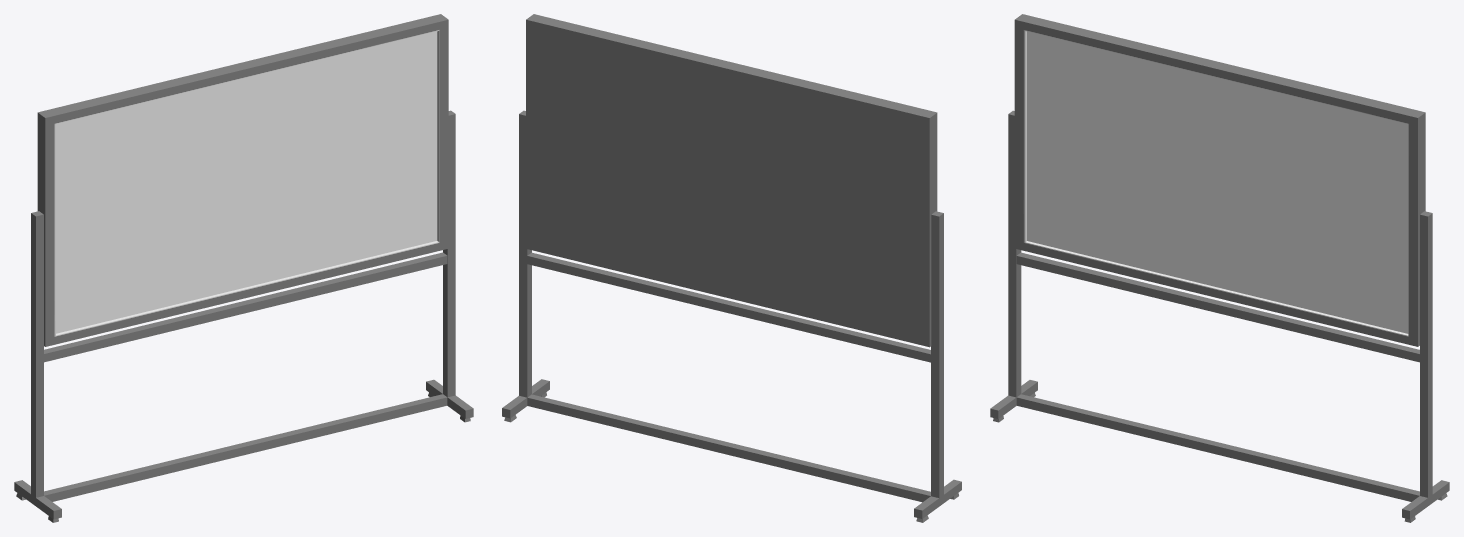
The model's file is whiteboard.fbx.
3 views of the same model, side by side, from view 1: azimuth 30°, elevation 25°; view 2: azimuth 150°, elevation 25°; view 3: azimuth 330°, elevation 25° (orthographic).
Parts seen in each view (by area): view 1: Cube, Cube.004, Cube.003, Cube.001, Cube.002; view 2: Cube, Cube.004, Cube.003, Cube.001, Cube.002; view 3: Cube, Cube.004, Cube.003, Cube.002, Cube.001.
Boxes of the visible parts, <box> form: Cube: <box>37,14,448,346</box>; Cube.004: <box>44,252,447,362</box>; Cube.003: <box>44,394,447,501</box>; Cube.001: <box>14,211,61,522</box>; Cube.002: <box>426,110,473,422</box>; Cube: <box>526,14,937,347</box>; Cube.004: <box>527,252,930,362</box>; Cube.003: <box>527,394,930,502</box>; Cube.001: <box>914,211,961,522</box>; Cube.002: <box>502,110,549,422</box>; Cube: <box>1014,14,1425,346</box>; Cube.004: <box>1016,252,1419,362</box>; Cube.003: <box>1016,394,1419,501</box>; Cube.002: <box>1402,211,1449,522</box>; Cube.001: <box>990,110,1037,422</box>.
Bounding box in the file's own units: 447 × 399 × 72.88.
Materials: 5 (5 with a texture image).
